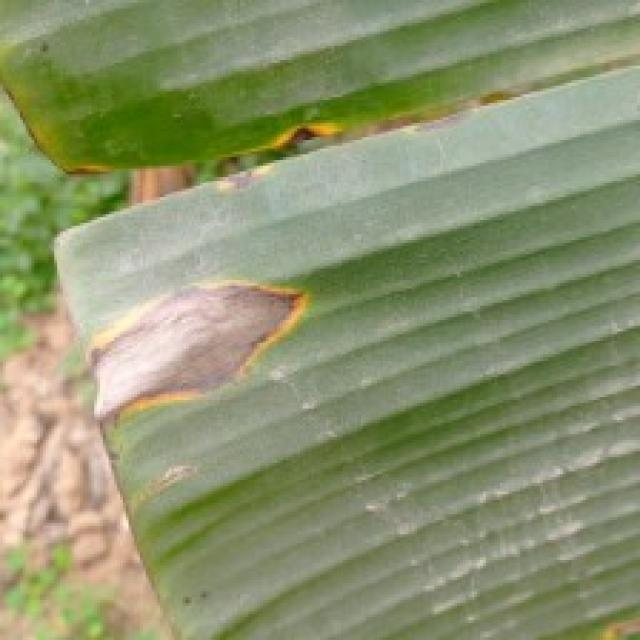Bacterial_spot: (76, 268, 317, 435), (244, 105, 344, 162), (122, 456, 215, 508), (577, 593, 640, 640), (57, 150, 120, 189)
